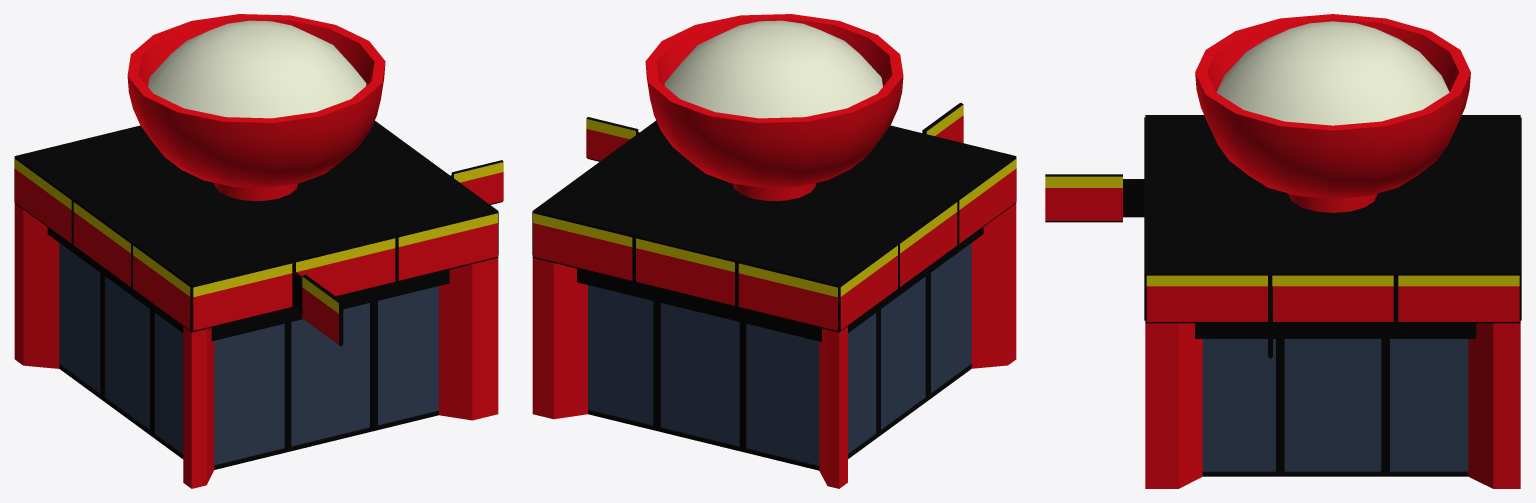
The model's file is Rice.fbx.
The picture shows the model from 3 angles, left to right: view 1: azimuth 30°, elevation 25°; view 2: azimuth 150°, elevation 25°; view 3: azimuth 270°, elevation 25°; orthographic projection. The views are drawn at different scales.
Visible parts, largest first — view 1: Cube_LOD0; view 2: Cube_LOD0; view 3: Cube_LOD0.
Boxes of the visible parts, x1=… form: Cube_LOD0: x1=14, y1=14, x2=503, y2=488; Cube_LOD0: x1=532, y1=14, x2=1016, y2=488; Cube_LOD0: x1=1045, y1=14, x2=1521, y2=488.
Size of what is drawn, in the model's own units: 572 by 517 by 601.
